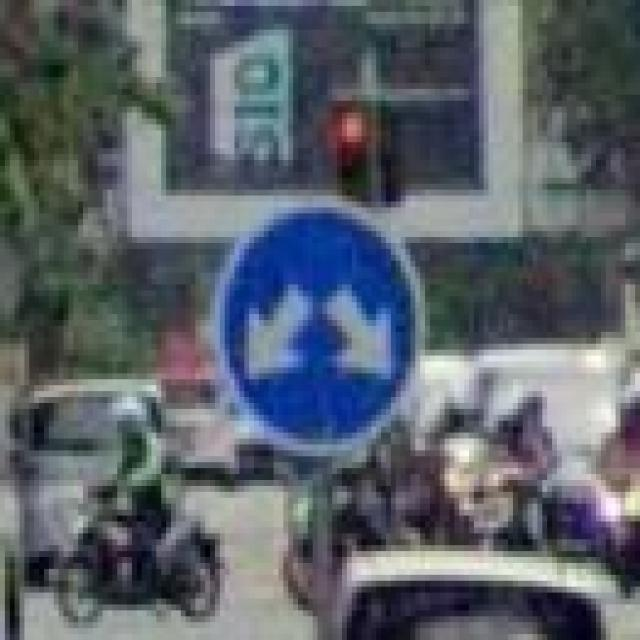traffic sign: (210, 196, 425, 456)
